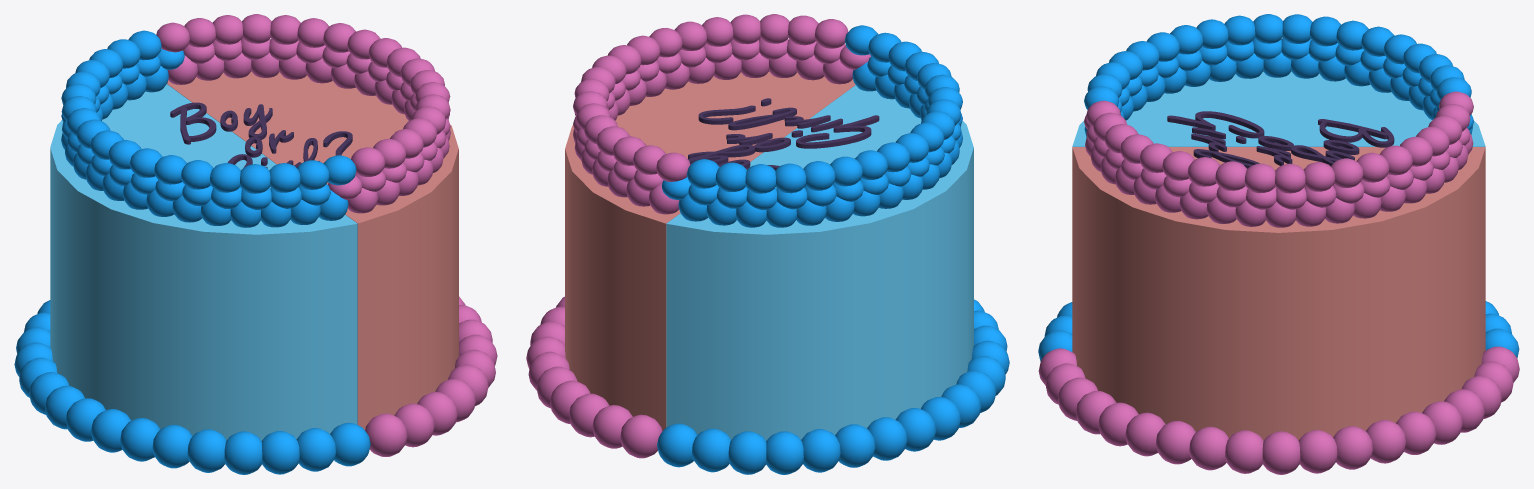
Rendered from Gender_Reveal_3.glb.
The picture shows the model from 3 angles, left to right: view 1: azimuth 30°, elevation 25°; view 2: azimuth 150°, elevation 25°; view 3: azimuth 270°, elevation 25°; orthographic projection.
Visible parts, largest first — view 1: Circle.002, Circle.001, Sphere, Sphere.007, Sphere.008, Sphere.002, Sphere.003, Sphere.004, Sphere.005, Sphere.006, Text; view 2: Circle.002, Circle.001, Sphere, Sphere.007, Sphere.008, Sphere.002, Sphere.003, Sphere.004, Sphere.005, Sphere.006, Text; view 3: Circle.001, Sphere.002, Circle.002, Sphere.008, Sphere.007, Sphere.004, Sphere.006, Sphere.003, Sphere.005, Text, Sphere.
Boxes of the visible parts, x1=… form: Circle.002: x1=50, y1=84, x2=357, y2=440; Circle.001: x1=167, y1=71, x2=458, y2=429; Sphere: x1=14, y1=300, x2=370, y2=474; Sphere.007: x1=61, y1=30, x2=356, y2=193; Sphere.008: x1=156, y1=14, x2=450, y2=176; Sphere.002: x1=365, y1=296, x2=497, y2=456; Sphere.003: x1=61, y1=66, x2=348, y2=227; Sphere.004: x1=168, y1=52, x2=450, y2=213; Sphere.005: x1=61, y1=48, x2=330, y2=209; Sphere.006: x1=183, y1=38, x2=450, y2=199; Text: x1=170, y1=102, x2=352, y2=168; Circle.002: x1=666, y1=85, x2=973, y2=440; Circle.001: x1=565, y1=71, x2=855, y2=431; Sphere: x1=657, y1=299, x2=1009, y2=474; Sphere.007: x1=686, y1=25, x2=962, y2=193; Sphere.008: x1=573, y1=14, x2=848, y2=181; Sphere.002: x1=526, y1=296, x2=662, y2=458; Sphere.003: x1=678, y1=62, x2=962, y2=227; Sphere.004: x1=573, y1=52, x2=853, y2=214; Sphere.005: x1=661, y1=56, x2=962, y2=209; Sphere.006: x1=573, y1=38, x2=870, y2=191; Text: x1=688, y1=98, x2=879, y2=170; Circle.001: x1=1072, y1=147, x2=1485, y2=440; Sphere.002: x1=1038, y1=346, x2=1519, y2=474; Circle.002: x1=1072, y1=71, x2=1485, y2=146; Sphere.008: x1=1086, y1=91, x2=1473, y2=193; Sphere.007: x1=1084, y1=14, x2=1471, y2=109; Sphere.004: x1=1085, y1=133, x2=1473, y2=227; Sphere.006: x1=1084, y1=115, x2=1470, y2=209; Sphere.003: x1=1084, y1=52, x2=1472, y2=137; Sphere.005: x1=1118, y1=38, x2=1473, y2=129; Text: x1=1167, y1=111, x2=1394, y2=168; Sphere: x1=1038, y1=301, x2=1519, y2=361.
Bounding box in the file's own units: 0.1403 × 0.0927 × 0.1398.
